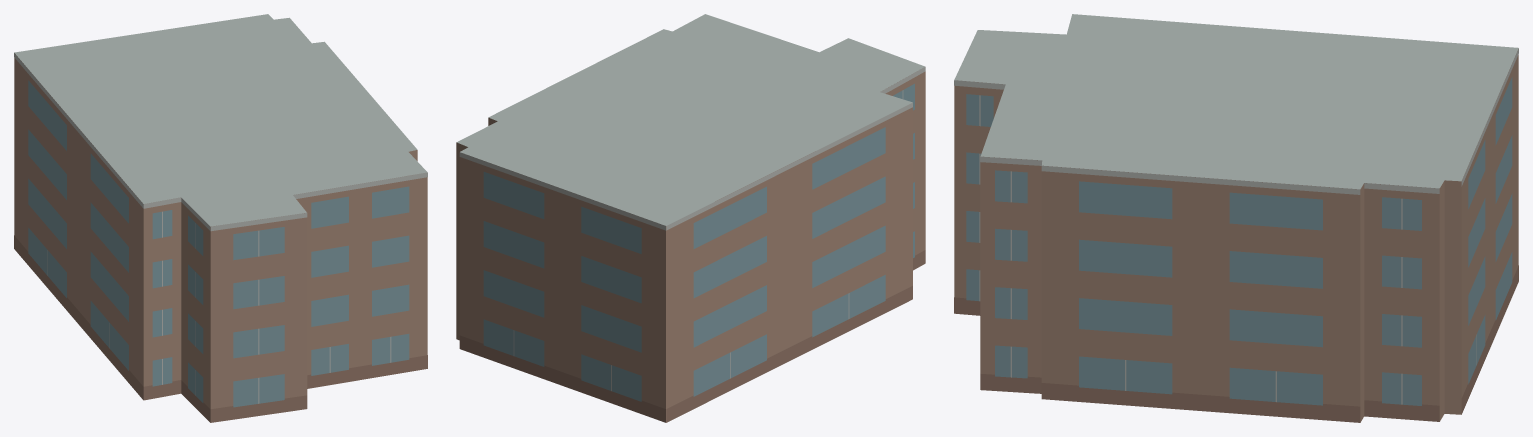
Rendered from survey-upis-32613475.glb.
The picture shows the model from 3 angles, left to right: view 1: azimuth 30°, elevation 25°; view 2: azimuth 150°, elevation 25°; view 3: azimuth 270°, elevation 25°; orthographic projection. The views are drawn at different scales.
Visible parts, largest first — view 1: survey-upis-32613475.tmp; view 2: survey-upis-32613475.tmp; view 3: survey-upis-32613475.tmp.
Part boxes in pixels (bbox=[...]): survey-upis-32613475.tmp: bbox=[14, 14, 427, 422]; survey-upis-32613475.tmp: bbox=[456, 14, 925, 422]; survey-upis-32613475.tmp: bbox=[954, 14, 1518, 422].
Bounding box in the file's own units: 16.44 × 10.2 × 22.37.
